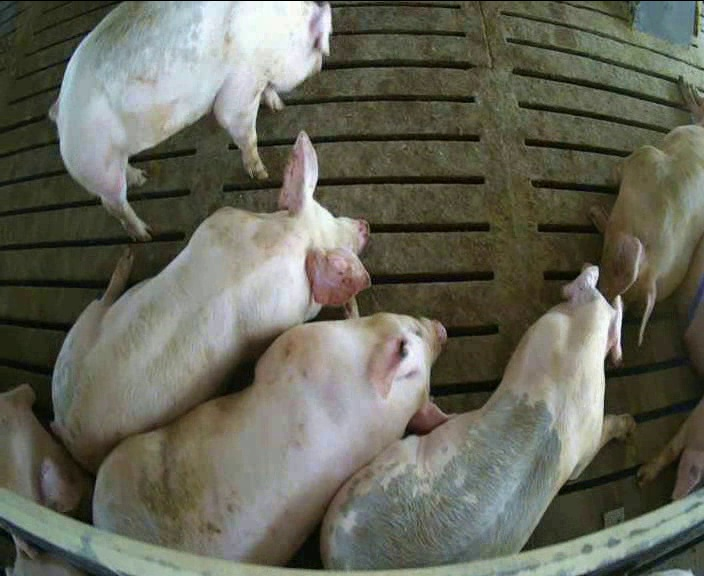pig: (53, 132, 369, 470), (94, 297, 444, 562), (321, 266, 630, 566), (50, 3, 331, 240), (588, 75, 703, 344)
